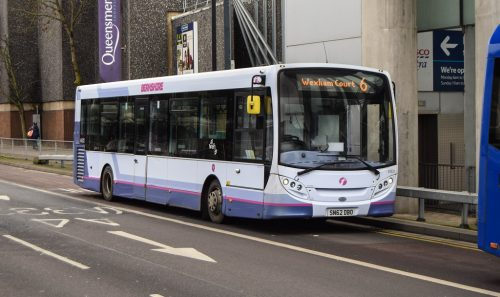bus: (68, 59, 404, 225)
